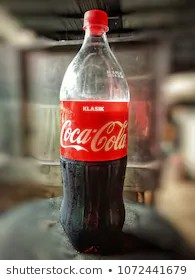coke-bottle-700ml: (51, 4, 128, 258)
